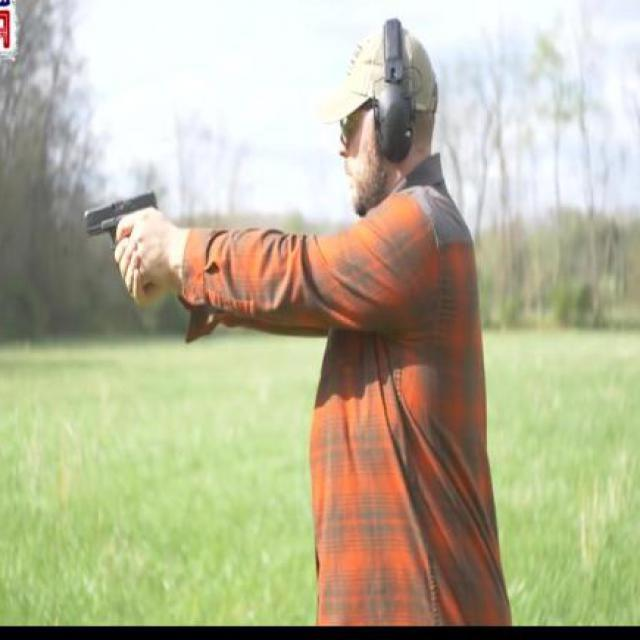weapon: (82, 194, 163, 254)
